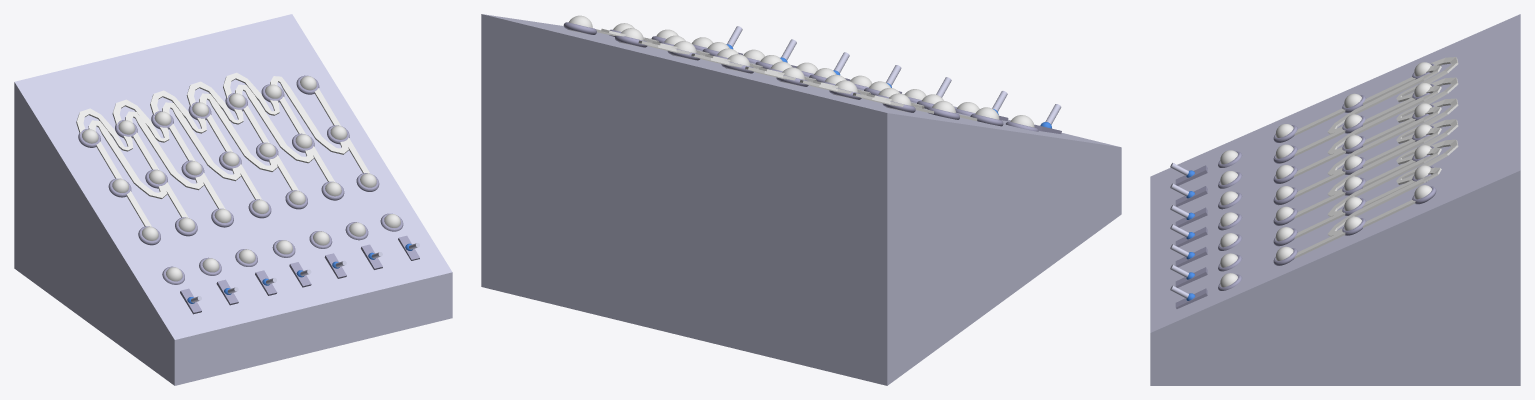
The model's file is Dodawanie_binarne.fbx.
3 renders of one model, left to right at view 1: azimuth 30°, elevation 25°; view 2: azimuth 150°, elevation 25°; view 3: azimuth 270°, elevation 25°, orthographic. The views are drawn at different scales.
Parts seen in each view (by area): view 1: Cube.001, Plane.009, Plane.010, Plane.008, Plane.024, Plane.003, Plane.002, Plane.004, Plane.006, Plane.005, Plane.023, Plane.007; view 2: Cube.001; view 3: Cube.001, Plane.008, Plane.024, Plane.009, Plane.010, Plane.002, Plane.003, Plane.004, Plane.005, Plane.007, Plane.023, Plane.006.
Boxes of the visible parts, x1=… form: Cube.001: x1=14, y1=14, x2=452, y2=385; Plane.009: x1=162, y1=102, x2=240, y2=181; Plane.010: x1=125, y1=111, x2=203, y2=190; Plane.008: x1=199, y1=93, x2=277, y2=171; Plane.024: x1=88, y1=120, x2=167, y2=198; Plane.003: x1=235, y1=84, x2=313, y2=163; Plane.002: x1=270, y1=76, x2=348, y2=154; Plane.004: x1=223, y1=72, x2=279, y2=115; Plane.006: x1=150, y1=90, x2=206, y2=133; Plane.005: x1=186, y1=81, x2=243, y2=124; Plane.023: x1=76, y1=108, x2=133, y2=151; Plane.007: x1=112, y1=99, x2=169, y2=142; Cube.001: x1=481, y1=14, x2=1121, y2=385; Cube.001: x1=1150, y1=14, x2=1520, y2=385; Plane.008: x1=1327, y1=127, x2=1441, y2=196; Plane.024: x1=1327, y1=65, x2=1441, y2=134; Plane.009: x1=1327, y1=106, x2=1441, y2=175; Plane.010: x1=1327, y1=86, x2=1441, y2=154; Plane.002: x1=1327, y1=167, x2=1441, y2=236; Plane.003: x1=1327, y1=147, x2=1441, y2=216; Plane.004: x1=1396, y1=139, x2=1458, y2=184; Plane.005: x1=1396, y1=119, x2=1458, y2=164; Plane.007: x1=1396, y1=77, x2=1458, y2=122; Plane.023: x1=1396, y1=57, x2=1458, y2=102; Plane.006: x1=1396, y1=98, x2=1458, y2=143.
Bounding box in the file's own units: 351 × 225 × 351.
